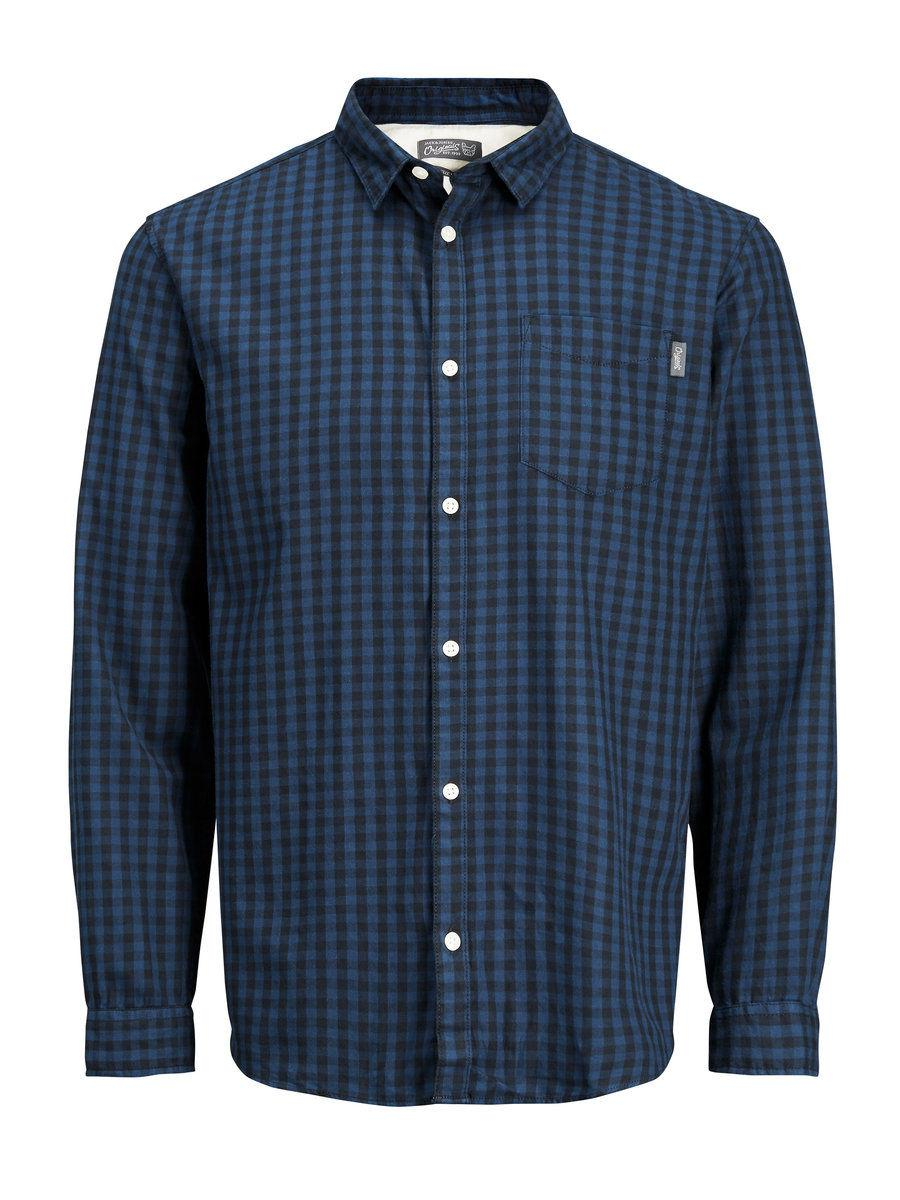teeshirt: (63, 53, 847, 1127)
